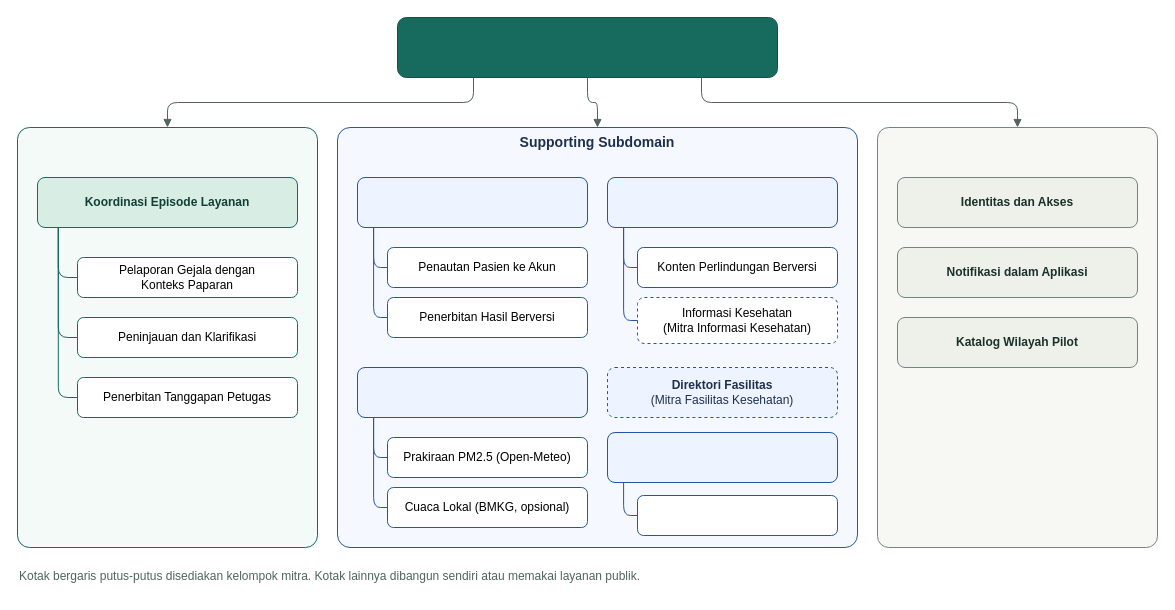
This 1175x610 diagram has some shape labels left out. Each missing label, with the box of its shape:
Agregasi Laporan Anonim per Wilayah: (636, 494, 838, 536)
Core Subdomain: (16, 126, 318, 548)
Domain Layanan Kesehatan Warga saat Asap Karhutla: (396, 16, 778, 78)
Generic Subdomain: (876, 126, 1158, 548)
Hasil Pemeriksaan Onsite: (356, 176, 588, 228)
Konteks Lingkungan: (356, 366, 588, 418)
Panduan Kesehatan: (606, 176, 838, 228)
Sinyal Kesehatan Wilayah: (606, 432, 838, 482)
